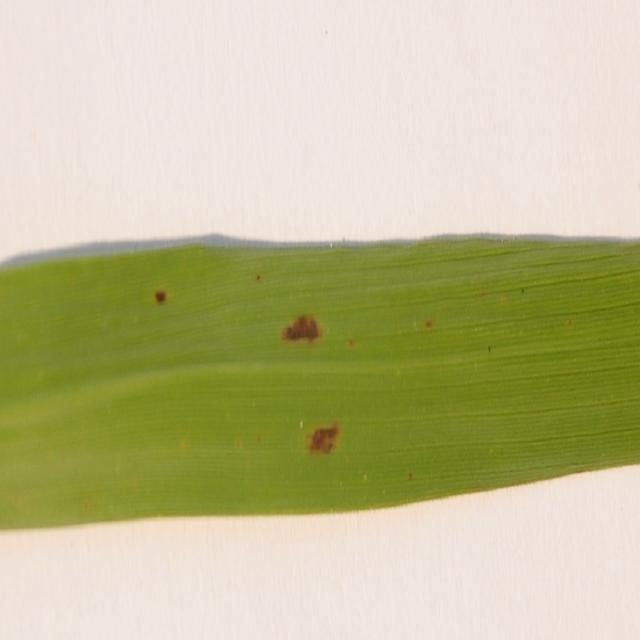brown spot: (281, 302, 322, 356), (306, 409, 342, 468), (149, 262, 170, 325)
